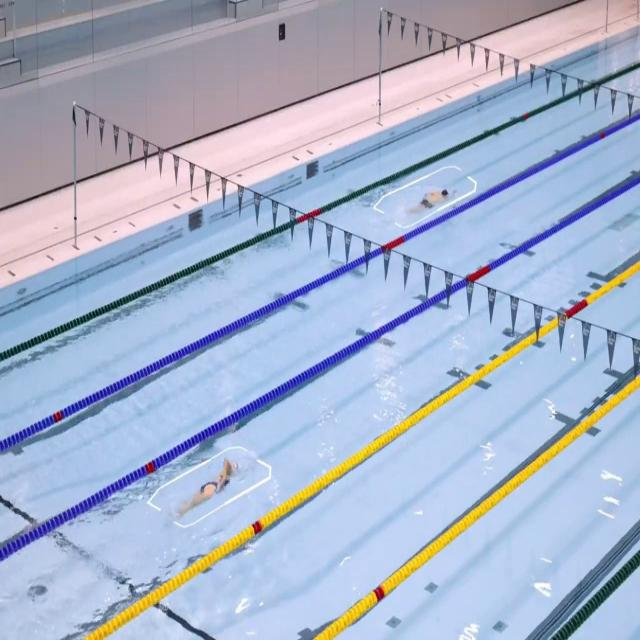Swimming: (180, 457, 240, 518), (406, 187, 457, 216)
